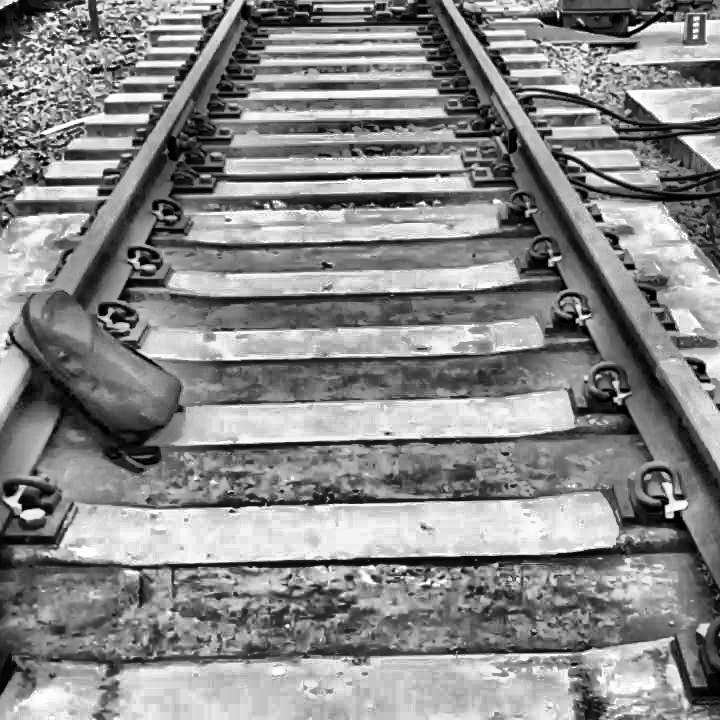Trash: (4, 271, 205, 486)
